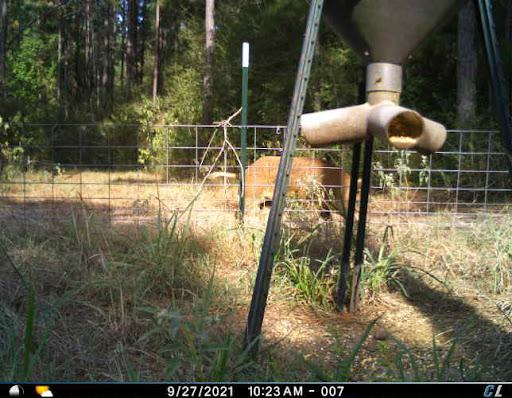Hog: (236, 150, 368, 231)
